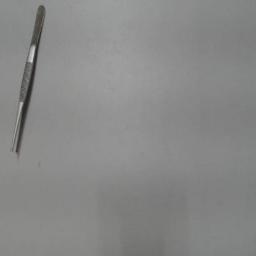Gillies Toothed Dissector: (10, 5, 50, 157)
